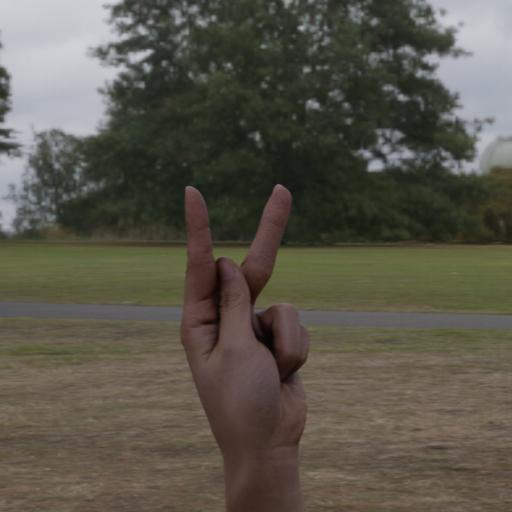K: (159, 150, 417, 509)
